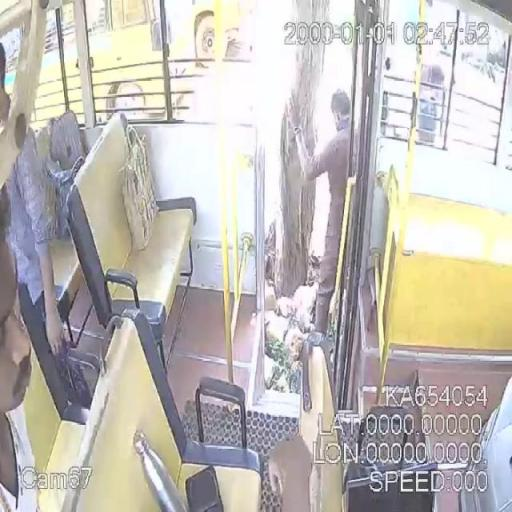persona: (290, 88, 360, 335)
